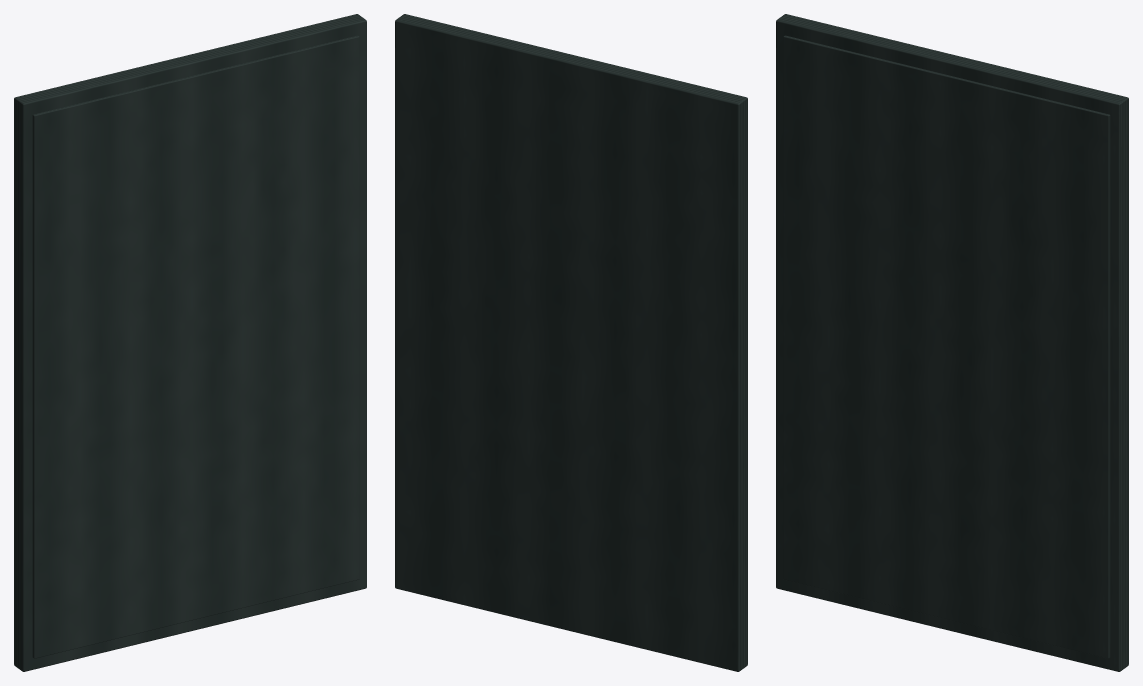
File: elevator-door-panel.glb
The picture shows the model from 3 angles, left to right: view 1: azimuth 30°, elevation 25°; view 2: azimuth 150°, elevation 25°; view 3: azimuth 330°, elevation 25°; orthographic projection.
Visible parts, largest first — view 1: Elevator_Door_Face, Elevator_Door_Core; view 2: Elevator_Door_Core; view 3: Elevator_Door_Face, Elevator_Door_Core.
Boxes of the visible parts, x1=… form: Elevator_Door_Face: x1=32, y1=35, x2=359, y2=658; Elevator_Door_Core: x1=14, y1=14, x2=366, y2=671; Elevator_Door_Core: x1=395, y1=14, x2=747, y2=671; Elevator_Door_Face: x1=783, y1=35, x2=1110, y2=658; Elevator_Door_Core: x1=776, y1=14, x2=1128, y2=671.
Bounding box in the file's own units: 3.7 × 5.84 × 0.2125.
2 materials, 2 textured.
